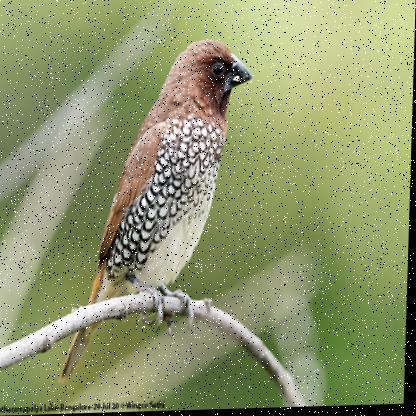Burung: (60, 40, 253, 383)
